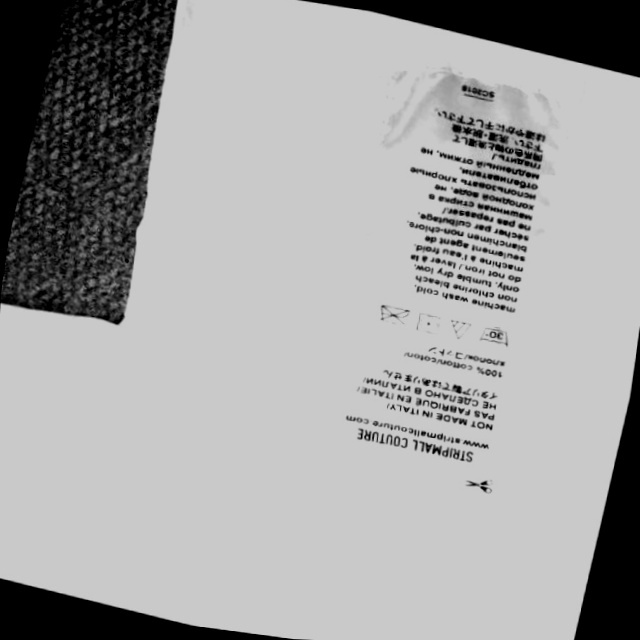30C: (477, 323, 515, 348)
DN_iron: (373, 301, 411, 331)
non_chlorine_bleach: (447, 317, 474, 341)
tumble_dry_low: (413, 311, 448, 336)
